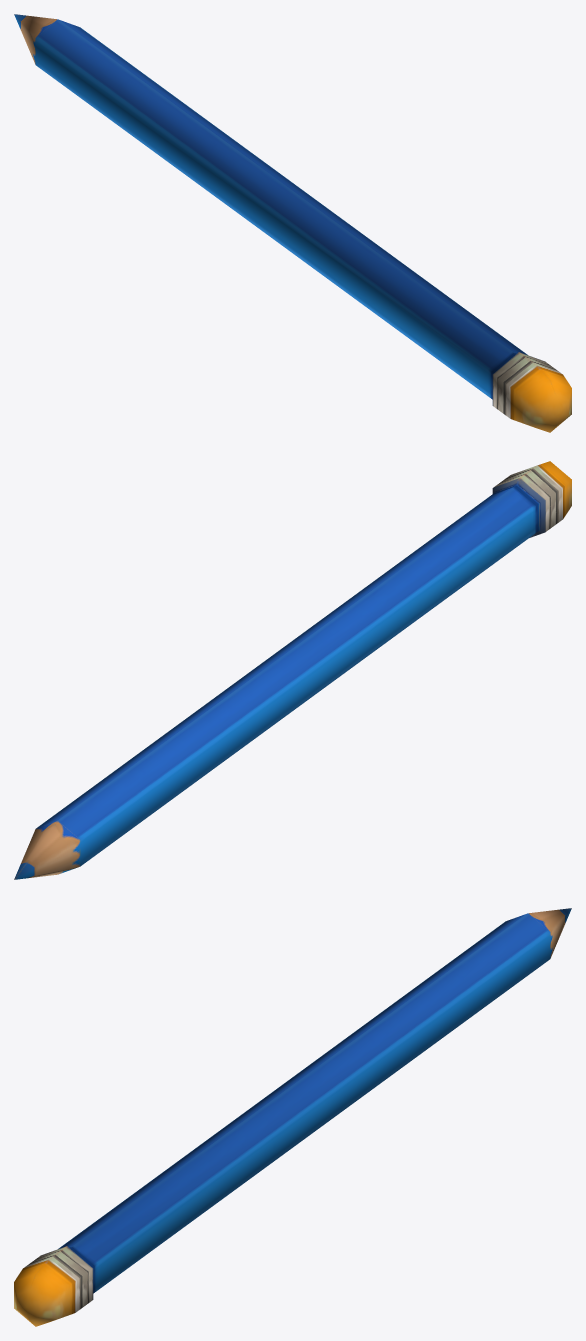
The model's file is pet_80_19_handle.FBX.
The picture shows the model from 3 angles, top to bottom: view 1: azimuth 30°, elevation 25°; view 2: azimuth 150°, elevation 25°; view 3: azimuth 330°, elevation 25°; orthographic projection.
Visible parts, largest first — view 1: pet_80_19_handle; view 2: pet_80_19_handle; view 3: pet_80_19_handle.
Part boxes in pixels (box(x1,y1,x2,y2)): pet_80_19_handle: box(14, 14, 571, 432); pet_80_19_handle: box(14, 461, 571, 879); pet_80_19_handle: box(14, 908, 571, 1326).
Bounding box in the file's own units: 5.71 × 6.59 × 103.
